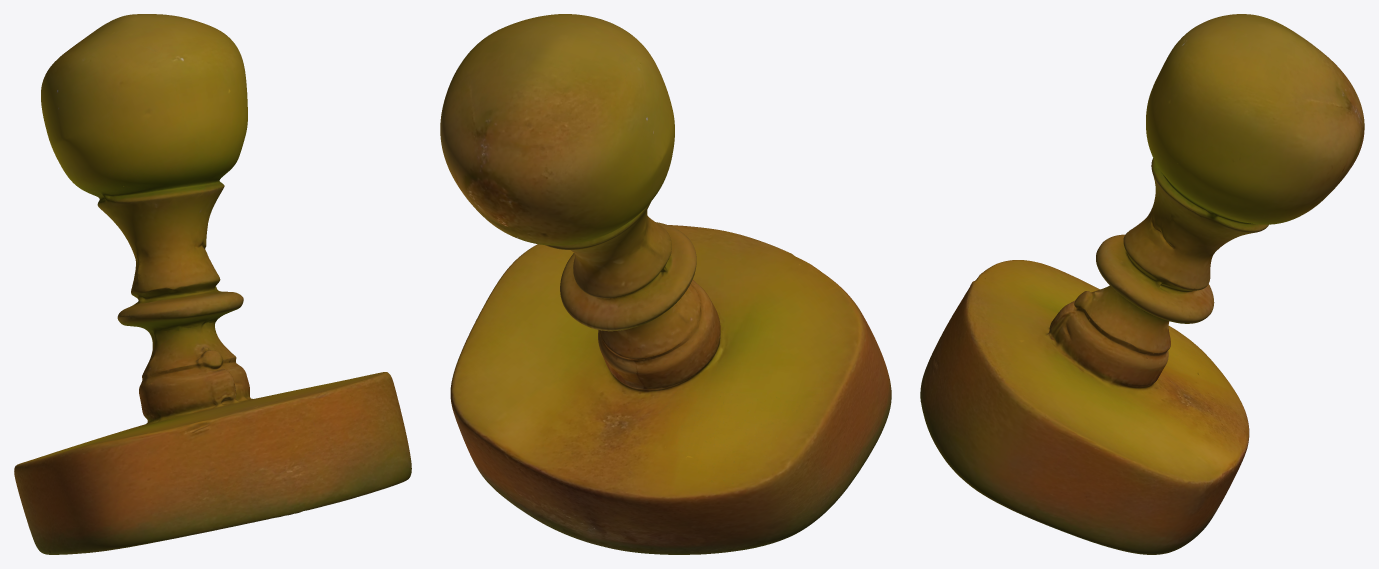
3 views of the same model, side by side, from view 1: azimuth 30°, elevation 25°; view 2: azimuth 150°, elevation 25°; view 3: azimuth 270°, elevation 25° (orthographic). The views are drawn at different scales.
Visible parts, largest first — view 1: node_0; view 2: node_0; view 3: node_0.
Boxes of the visible parts, bbox=[...] form: node_0: bbox=[14, 14, 411, 554]; node_0: bbox=[440, 14, 891, 554]; node_0: bbox=[920, 14, 1364, 554].
Bounding box in the file's own units: 0.7687 × 1.08 × 0.8929.
Materials: 1 (1 with a texture image).
